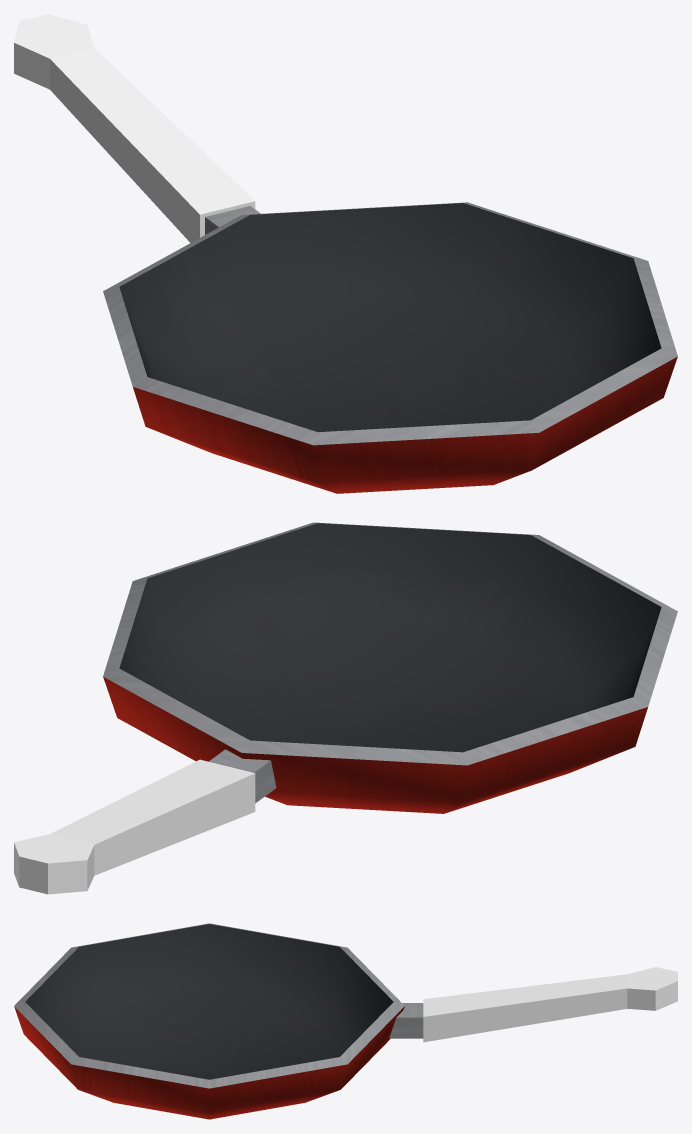
Rendered from Sarten_01.glb.
The picture shows the model from 3 angles, top to bottom: view 1: azimuth 30°, elevation 25°; view 2: azimuth 150°, elevation 25°; view 3: azimuth 270°, elevation 25°; orthographic projection. The views are drawn at different scales.
Visible parts, largest first — view 1: Sarten_01; view 2: Sarten_01; view 3: Sarten_01.
Boxes of the visible parts, x1,y1,x2,y2 form: Sarten_01: [14, 14, 677, 493]; Sarten_01: [14, 522, 677, 894]; Sarten_01: [14, 923, 677, 1119].
Size of the model in its own units: 0.3758 by 0.0912 by 0.6384.
Materials: 4 (3 with a texture image).
